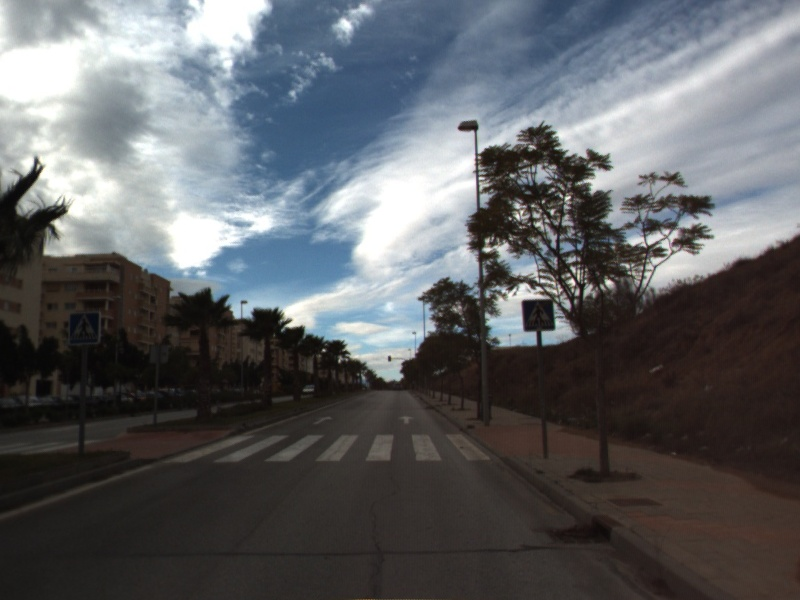STRAIGHT: (311, 414, 335, 427), (397, 414, 415, 426)
